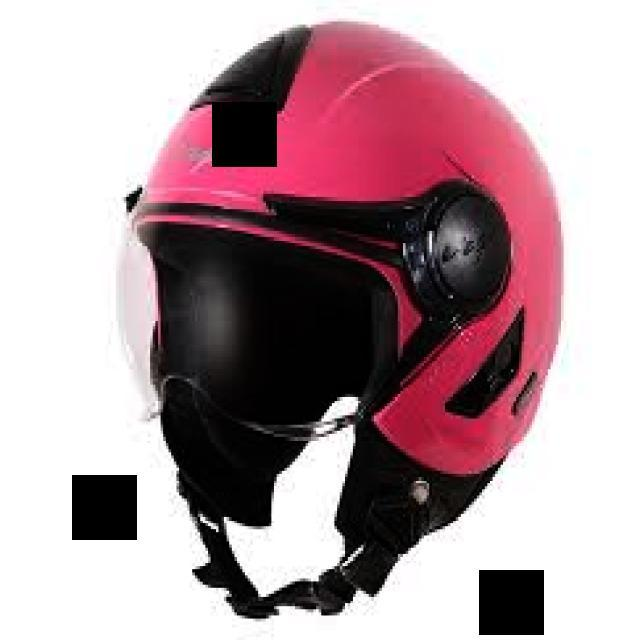helmet: (113, 19, 572, 625)
